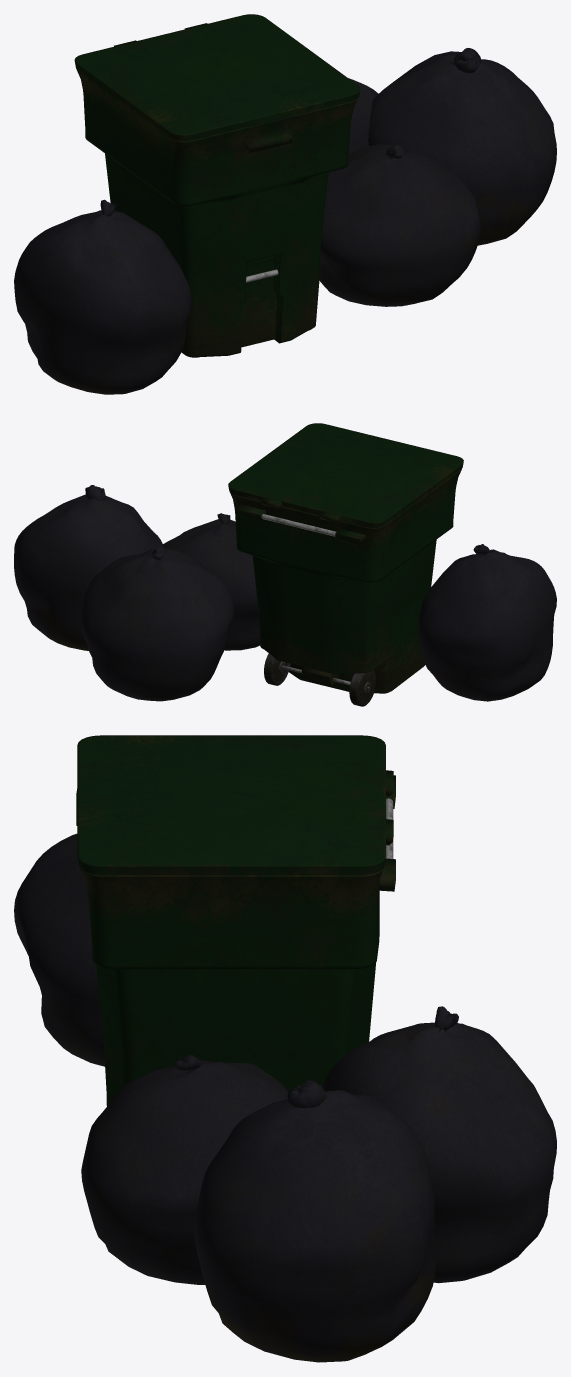
Rendered from garbage_bin__trash_bags.glb.
3 views of the same model, one above another, from view 1: azimuth 30°, elevation 25°; view 2: azimuth 150°, elevation 25°; view 3: azimuth 270°, elevation 25° (orthographic). The views are drawn at different scales.
Visible parts, largest first — view 1: Cube, Trashbag LP.002, CAGE, Trashbag LP, Trashbag LP.001; view 2: Cube, Trashbag LP.001, Trashbag LP.002, CAGE, Trashbag LP; view 3: Cube, CAGE, Trashbag LP.001, Trashbag LP, Trashbag LP.002.
Boxes of the visible parts, x1=… form: Cube: x1=74, y1=14, x2=360, y2=357; Trashbag LP.002: x1=14, y1=199, x2=191, y2=394; CAGE: x1=368, y1=48, x2=556, y2=245; Trashbag LP: x1=319, y1=144, x2=480, y2=306; Trashbag LP.001: x1=348, y1=78, x2=378, y2=154; Cube: x1=228, y1=423, x2=463, y2=706; Trashbag LP.001: x1=80, y1=546, x2=233, y2=701; Trashbag LP.002: x1=418, y1=544, x2=556, y2=701; CAGE: x1=14, y1=485, x2=163, y2=650; Trashbag LP: x1=162, y1=513, x2=259, y2=650; Cube: x1=76, y1=735, x2=395, y2=1105; CAGE: x1=194, y1=1080, x2=436, y2=1362; Trashbag LP.001: x1=322, y1=1006, x2=556, y2=1283; Trashbag LP: x1=81, y1=1054, x2=288, y2=1284; Trashbag LP.002: x1=14, y1=833, x2=104, y2=1066.
Bounding box in the file's own units: 656 × 277 × 383.
5 materials, 5 textured.
